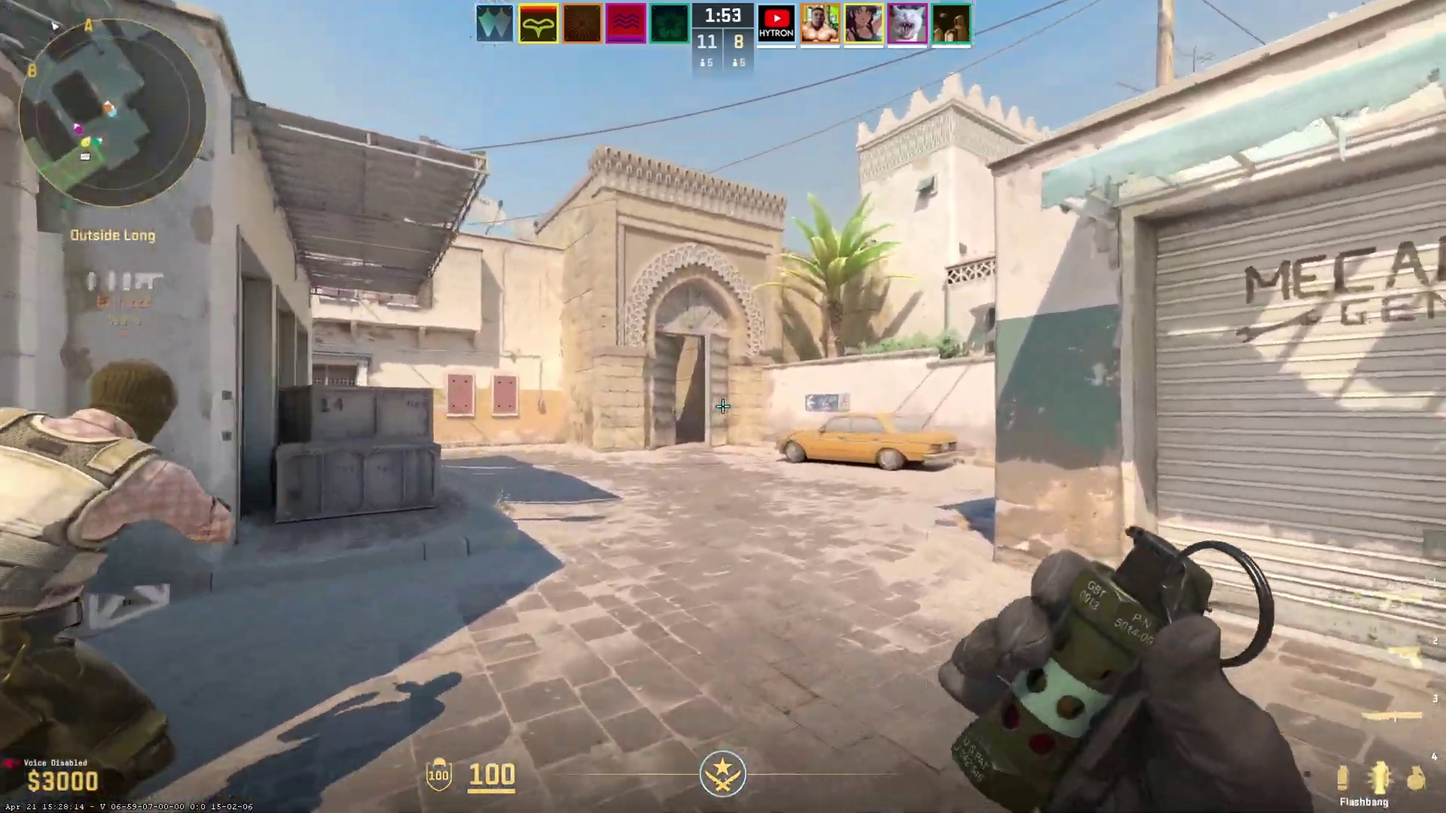Terrorist: (0, 363, 199, 808)
